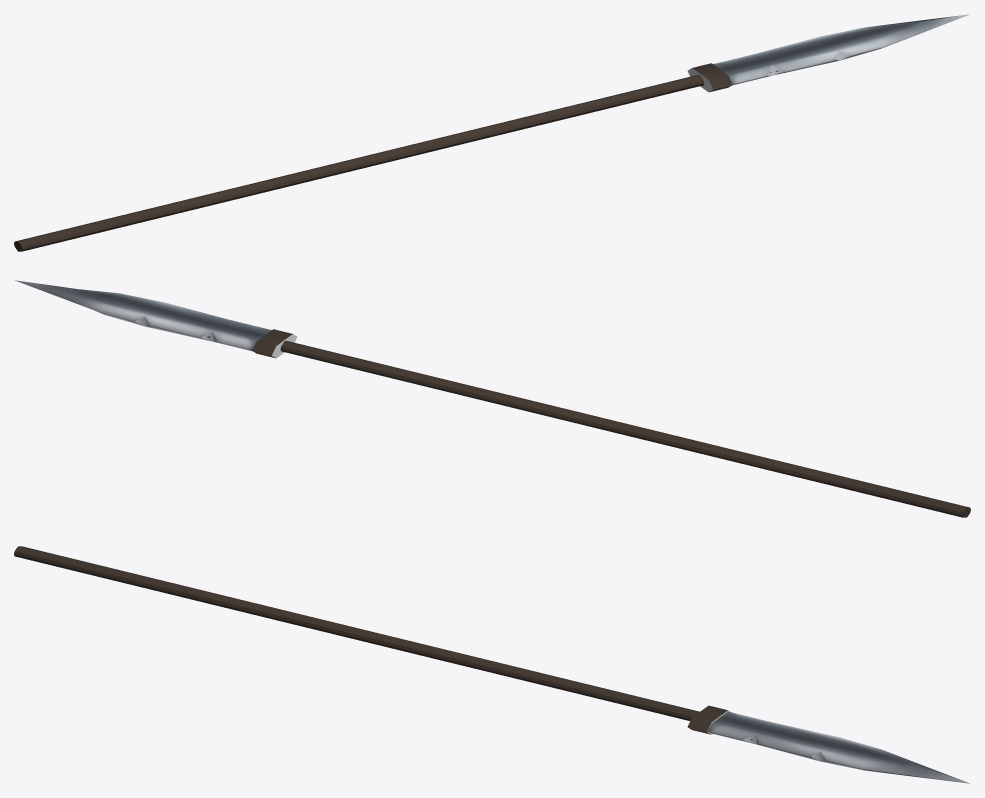
The model's file is Trap_3.fbx.
The picture shows the model from 3 angles, top to bottom: view 1: azimuth 30°, elevation 25°; view 2: azimuth 150°, elevation 25°; view 3: azimuth 330°, elevation 25°; orthographic projection.
Parts seen in each view (by area): view 1: Trap_3; view 2: Trap_3; view 3: Trap_3.
Part boxes in pixels (x1,y1,x2,y2): Trap_3: (14, 14, 969, 251); Trap_3: (15, 280, 970, 517); Trap_3: (14, 546, 969, 783).
Bounding box in the file's own units: 0.0429 × 0.000563 × 0.00201.
1 material, 1 textured.
